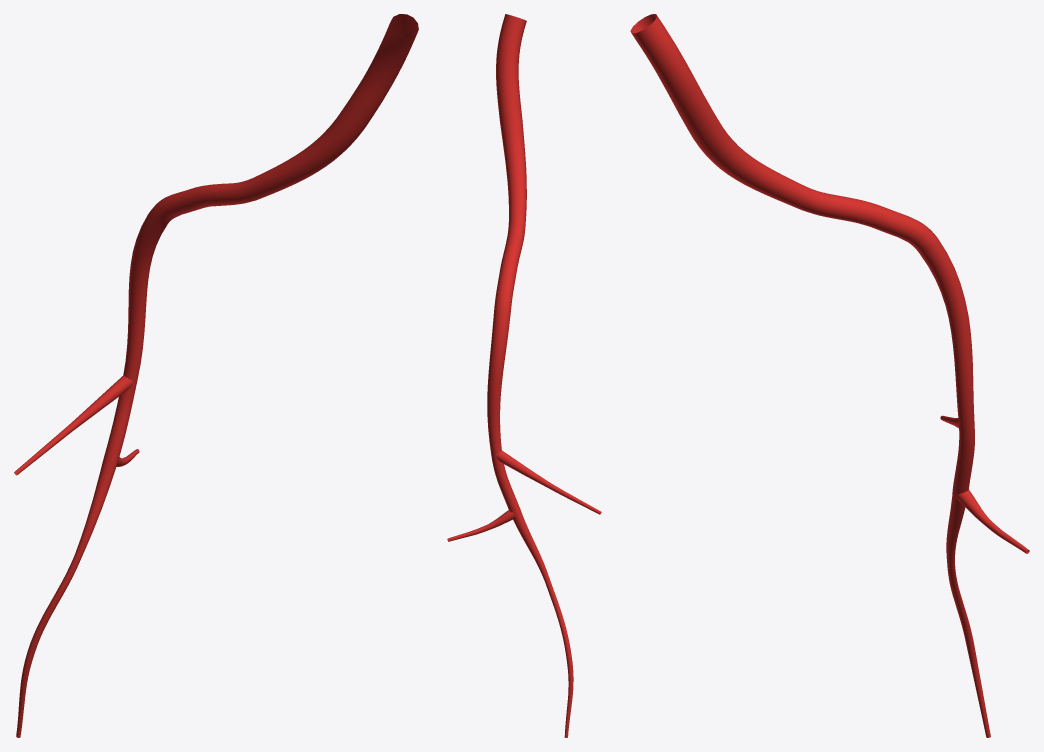
Rendered from circulatorio-inferior-gluteal-artery-r.glb.
3 views of the same model, side by side, from view 1: azimuth 30°, elevation 25°; view 2: azimuth 150°, elevation 25°; view 3: azimuth 270°, elevation 25° (orthographic). The views are drawn at different scales.
Parts seen in each view (by area): view 1: Inferior gluteal artery.r; view 2: Inferior gluteal artery.r; view 3: Inferior gluteal artery.r.
Part boxes in pixels (box(x1,y1,x2,y2)): Inferior gluteal artery.r: box(14, 14, 418, 737); Inferior gluteal artery.r: box(447, 14, 601, 737); Inferior gluteal artery.r: box(630, 14, 1029, 737).
Bounding box in the file's own units: 0.041 × 0.1159 × 0.0499.
